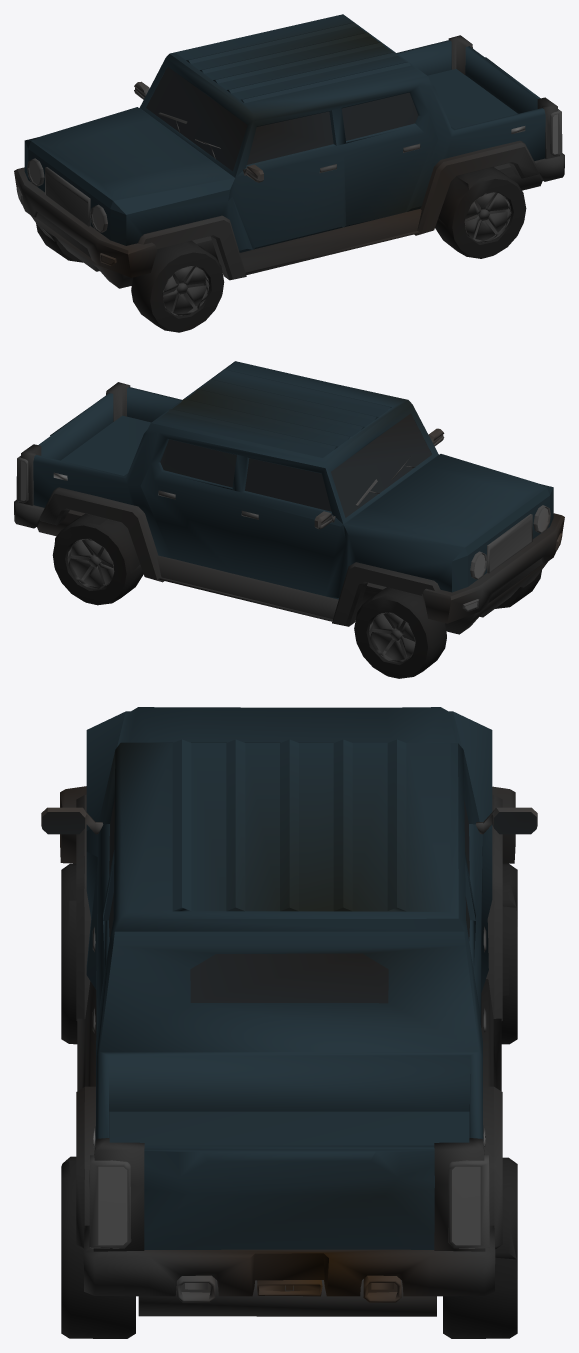
Rendered from city_car_4.glb.
3 renders of one model, top to bottom at view 1: azimuth 30°, elevation 25°; view 2: azimuth 150°, elevation 25°; view 3: azimuth 270°, elevation 25°, orthographic. The views are drawn at different scales.
Parts seen in each view (by area): view 1: city_car_4; view 2: city_car_4; view 3: city_car_4.
Part boxes in pixels (box(x1,y1,x2,y2)): city_car_4: box(14, 14, 564, 332); city_car_4: box(14, 361, 564, 678); city_car_4: box(41, 707, 537, 1338).
Size of the model in its own units: 4.4 by 1.74 by 2.06.
1 material, 1 textured.
